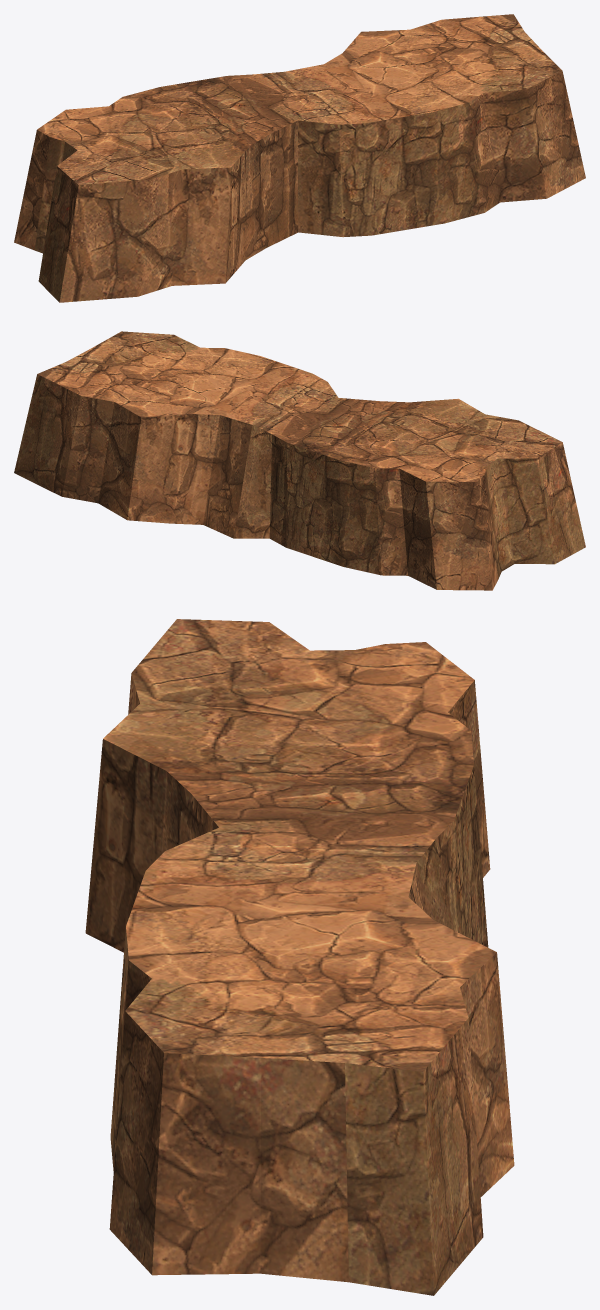
The model's file is StonePedestal.fbx.
The picture shows the model from 3 angles, top to bottom: view 1: azimuth 30°, elevation 25°; view 2: azimuth 150°, elevation 25°; view 3: azimuth 270°, elevation 25°; orthographic projection. The views are drawn at different scales.
Visible parts, largest first — view 1: StonePedestal_geo; view 2: StonePedestal_geo; view 3: StonePedestal_geo.
Part boxes in pixels (bbox=[...]): StonePedestal_geo: bbox=[14, 14, 585, 302]; StonePedestal_geo: bbox=[14, 331, 585, 590]; StonePedestal_geo: bbox=[85, 619, 514, 1295].
Size of the model in its own units: 13.78 by 2.66 by 5.07.
